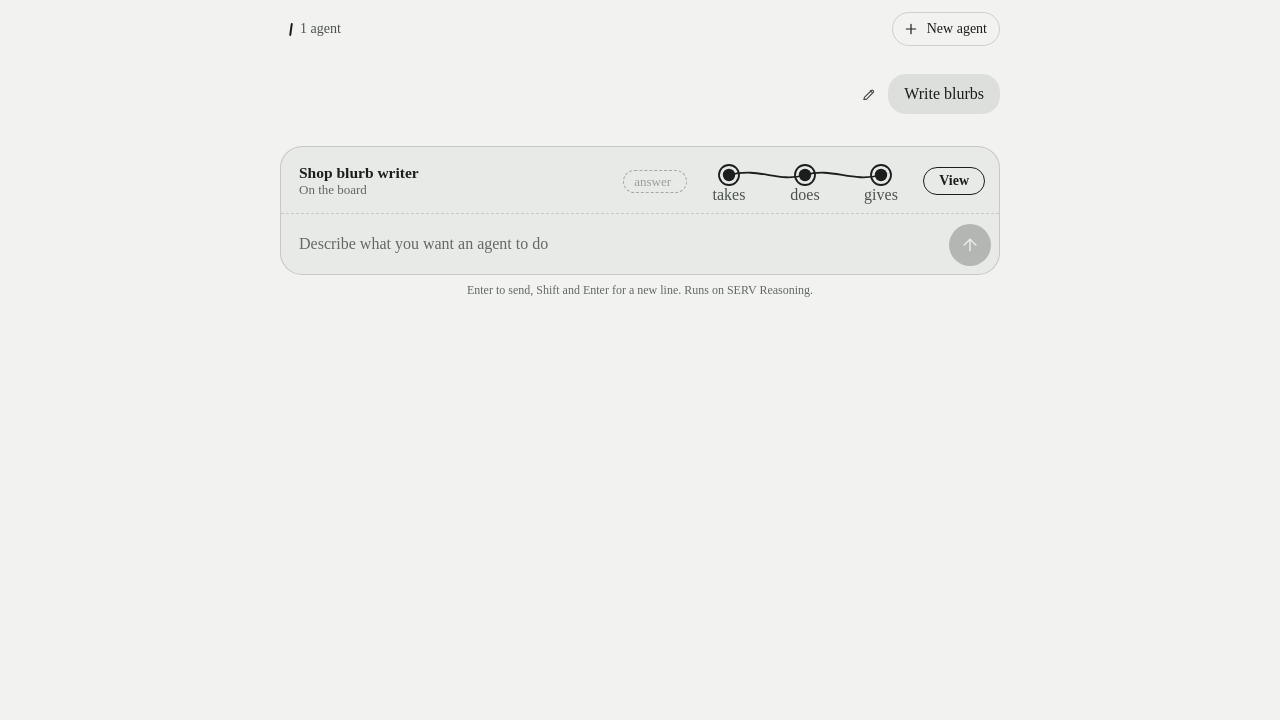
Test case: prices › changes the price of a helper on the board from the agents popover
Click the button "1 agent" at point(315, 29), box x1=280 y1=15 x2=351 y2=43
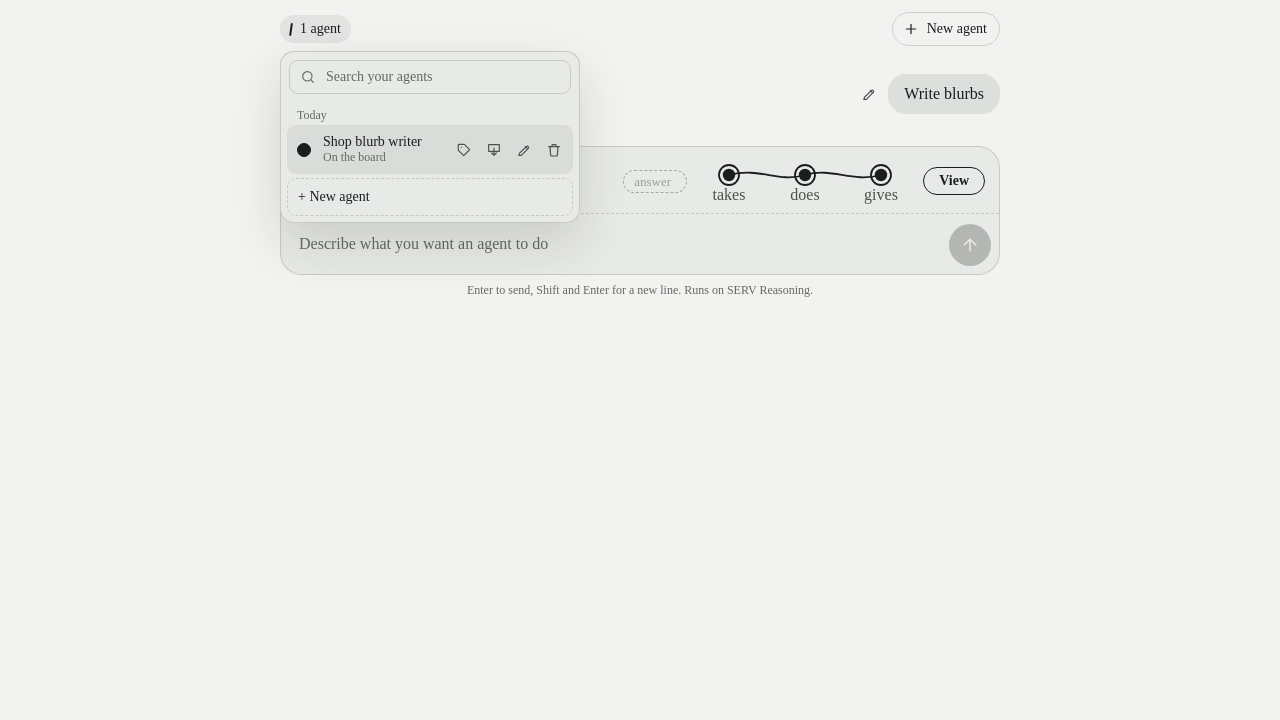
Click the button named "Set the price of Shop blurb writer" at point(464, 150), box x1=449 y1=134 x2=479 y2=164
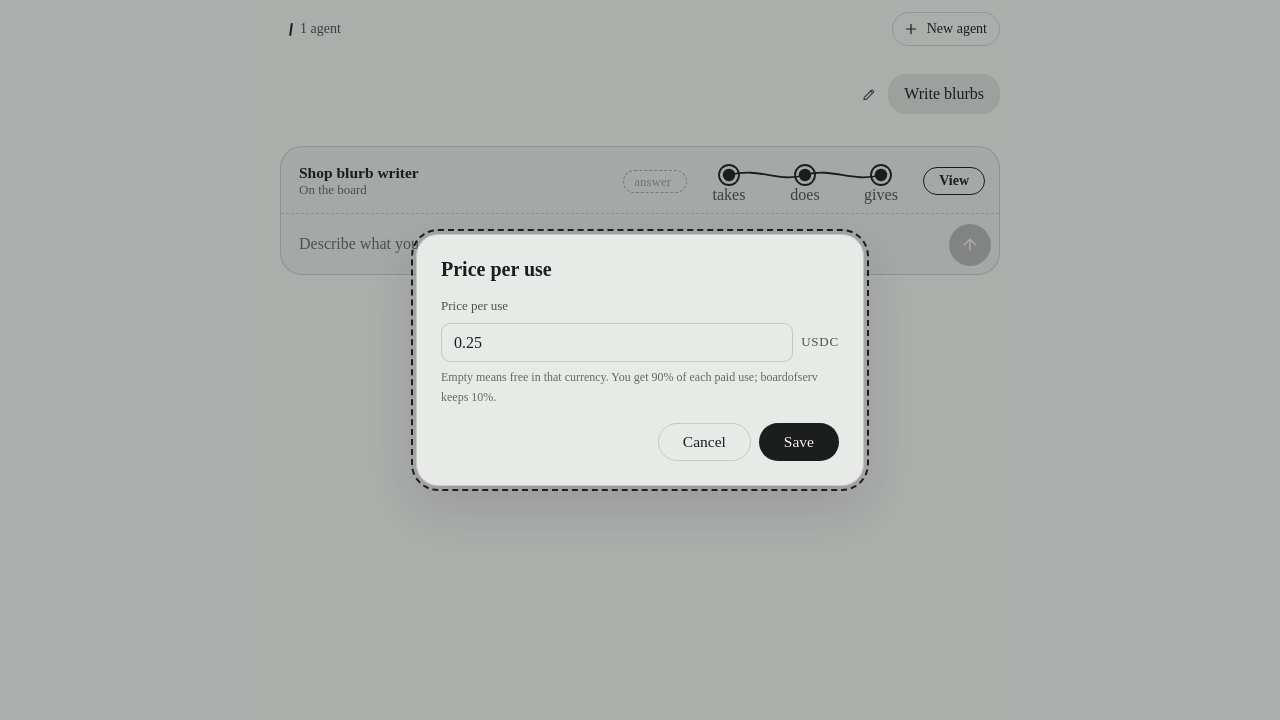
Now the field named "Price per use in USDC" holds "0.25"
Clear the field named "Price per use in USDC" at point(617, 343), box x1=441 y1=323 x2=793 y2=362
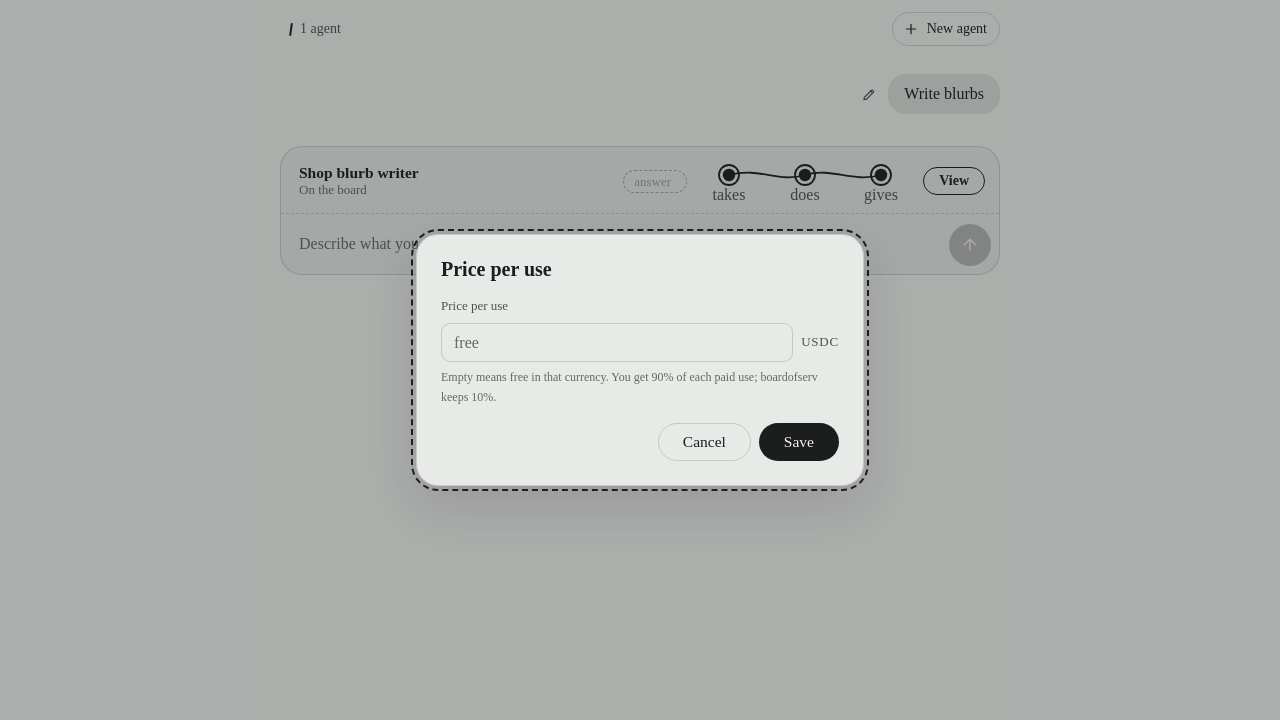
Click the button "Save" at point(799, 442), box x1=759 y1=423 x2=839 y2=461
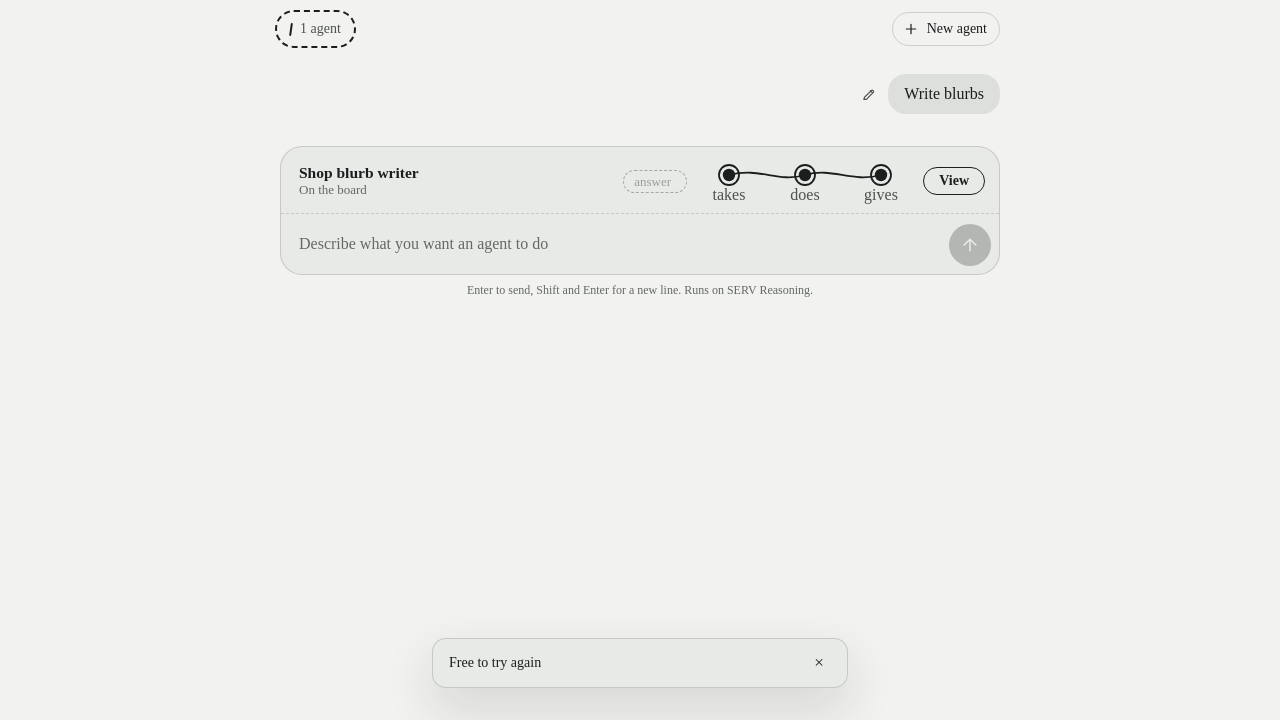
Now the text "Free to try again" is shown, box x1=449 y1=654 x2=541 y2=670
